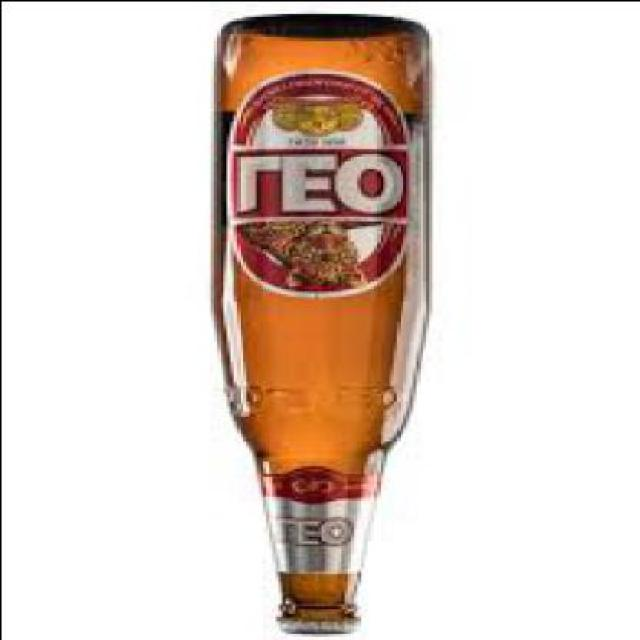GLASS: (209, 15, 425, 620)
METAL: (268, 620, 349, 635)
